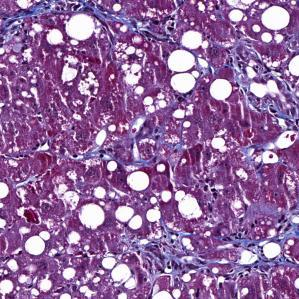fibrosis: (229, 55, 298, 117), (141, 231, 204, 282), (13, 1, 100, 27)
